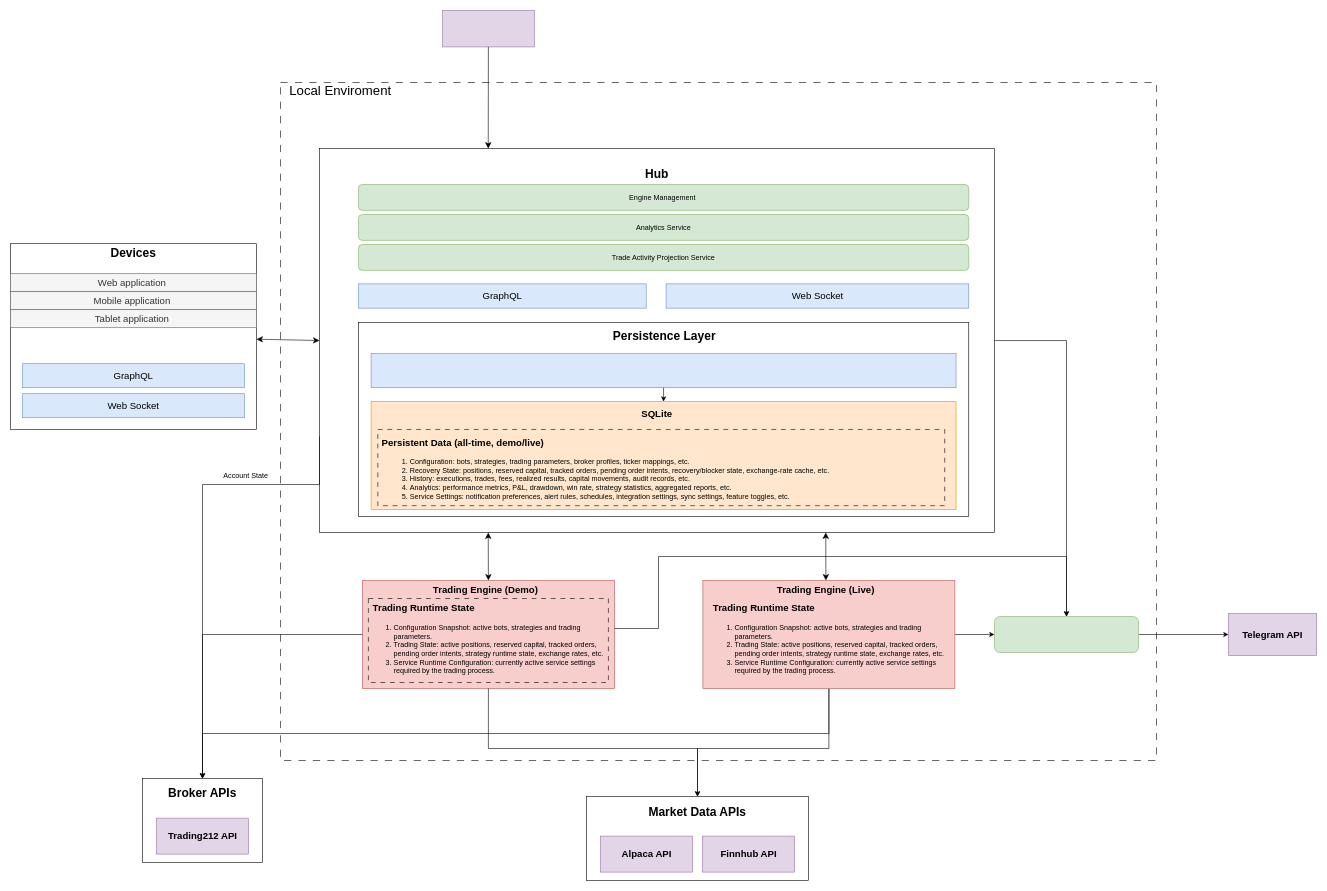
The diagram is 1327 pixels wide and 891 high, and some of its shapes have lost their labels. Here are the shapes that lost their labels. From the top down, the centre of each, then its label:
At (x=488, y=28): "Twelve Data API".
At (x=663, y=370): "Storage Interface".
At (x=1066, y=634): "Telegram Service".
